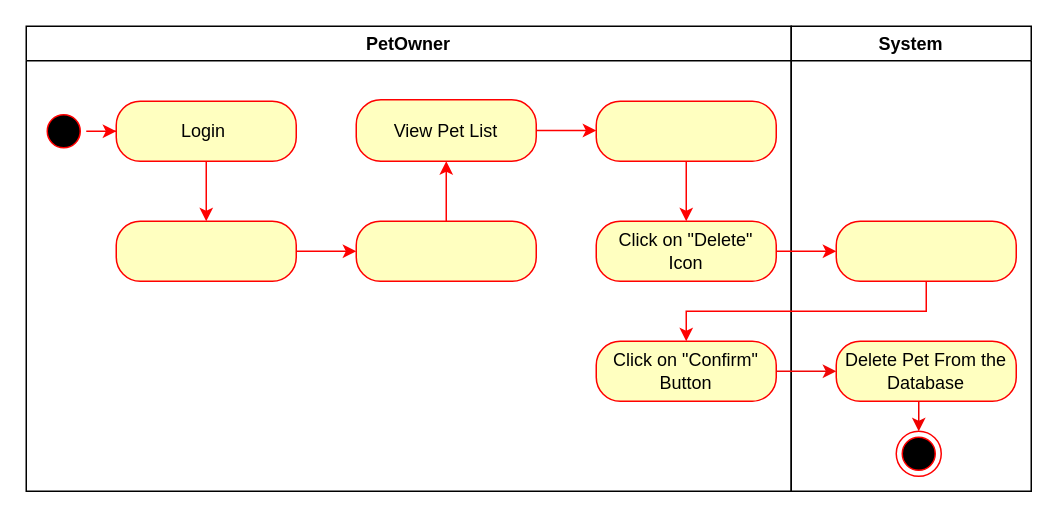
This 1058x518 diagram has some shape labels left out. The centre of each missing label's shape, as x and y in pixels:
Click on "My Pets": (445,250)
Decide on Pet: (685,130)
Display Confirmation Question: (925,250)
View Dashboard: (205,250)
